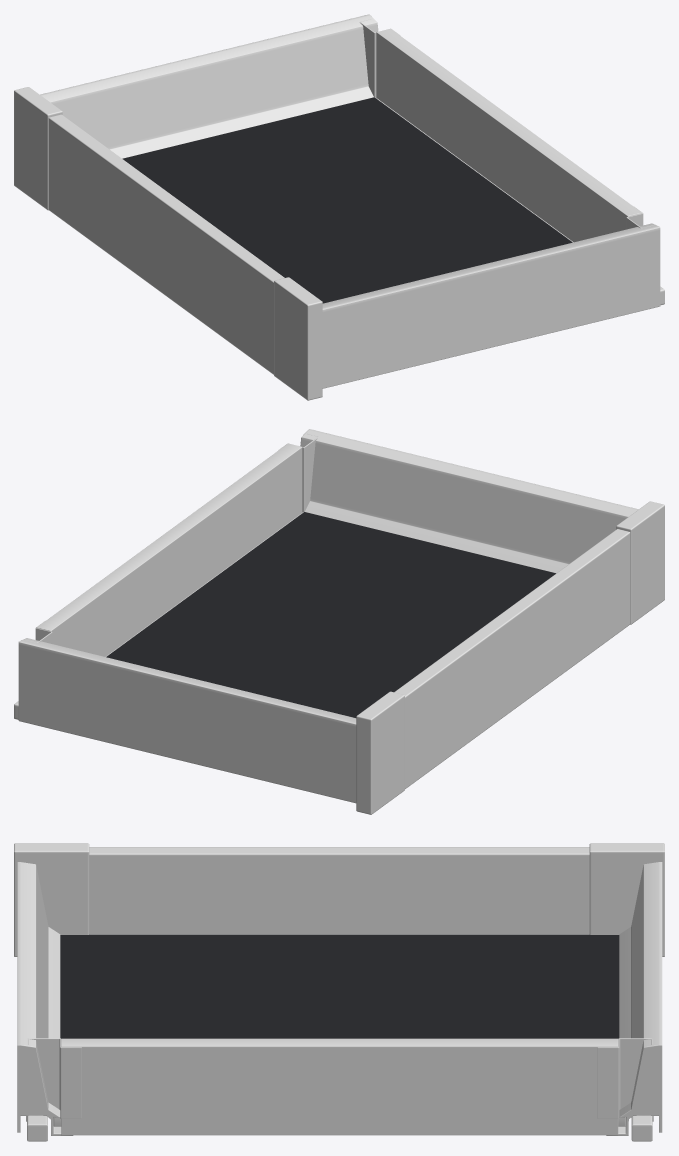
Rendered from SM_Kitchen_08_Sink_Drawer_02.dae.
3 views of the same model, one above another, from view 1: azimuth 30°, elevation 25°; view 2: azimuth 150°, elevation 25°; view 3: azimuth 270°, elevation 25° (orthographic). The views are drawn at different scales.
Parts seen in each view (by area): view 1: SM_Kitchen_08_Sink_Drawer_02; view 2: SM_Kitchen_08_Sink_Drawer_02; view 3: SM_Kitchen_08_Sink_Drawer_02.
Part boxes in pixels (x1,y1,x2,y2): SM_Kitchen_08_Sink_Drawer_02: (14, 14, 664, 400); SM_Kitchen_08_Sink_Drawer_02: (14, 429, 664, 814); SM_Kitchen_08_Sink_Drawer_02: (14, 843, 664, 1141).
Bounding box in the file's own units: 0.401 × 0.5619 × 0.101.
2 materials, 2 textured.
